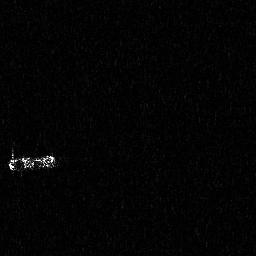ship: (7, 148, 58, 176)
